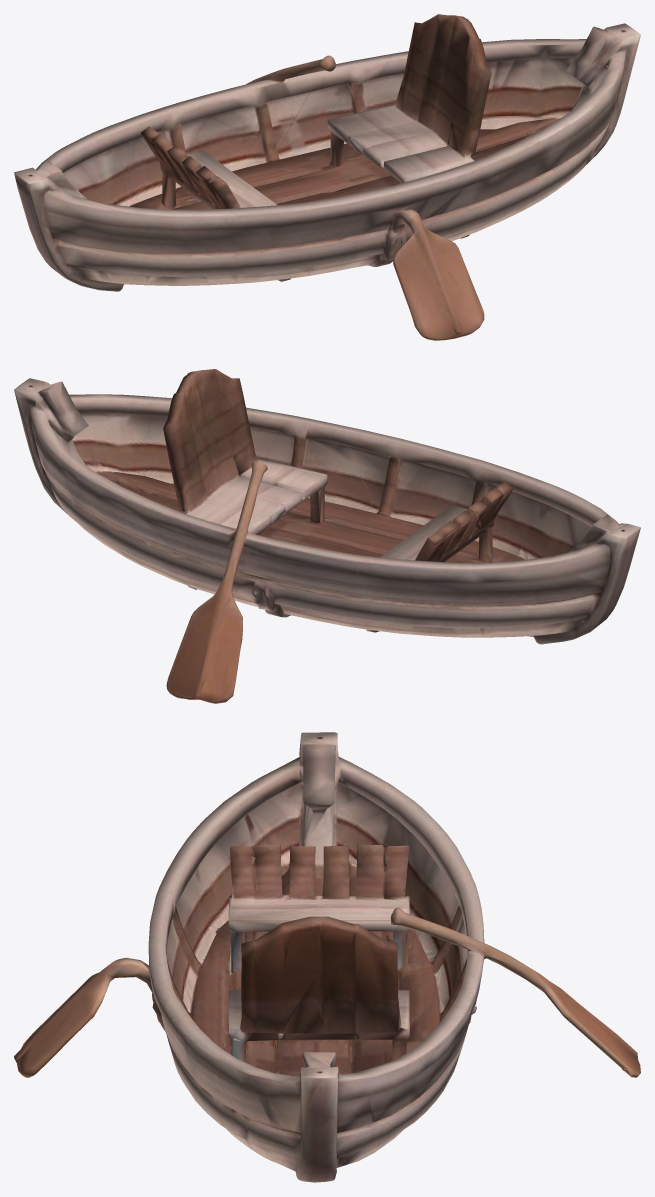
File: rowboat.glb
The picture shows the model from 3 angles, top to bottom: view 1: azimuth 30°, elevation 25°; view 2: azimuth 150°, elevation 25°; view 3: azimuth 270°, elevation 25°; orthographic projection. The views are drawn at different scales.
Size of the model in its own units: 1.91 by 0.599 by 1.47.
1 material, 1 textured.
